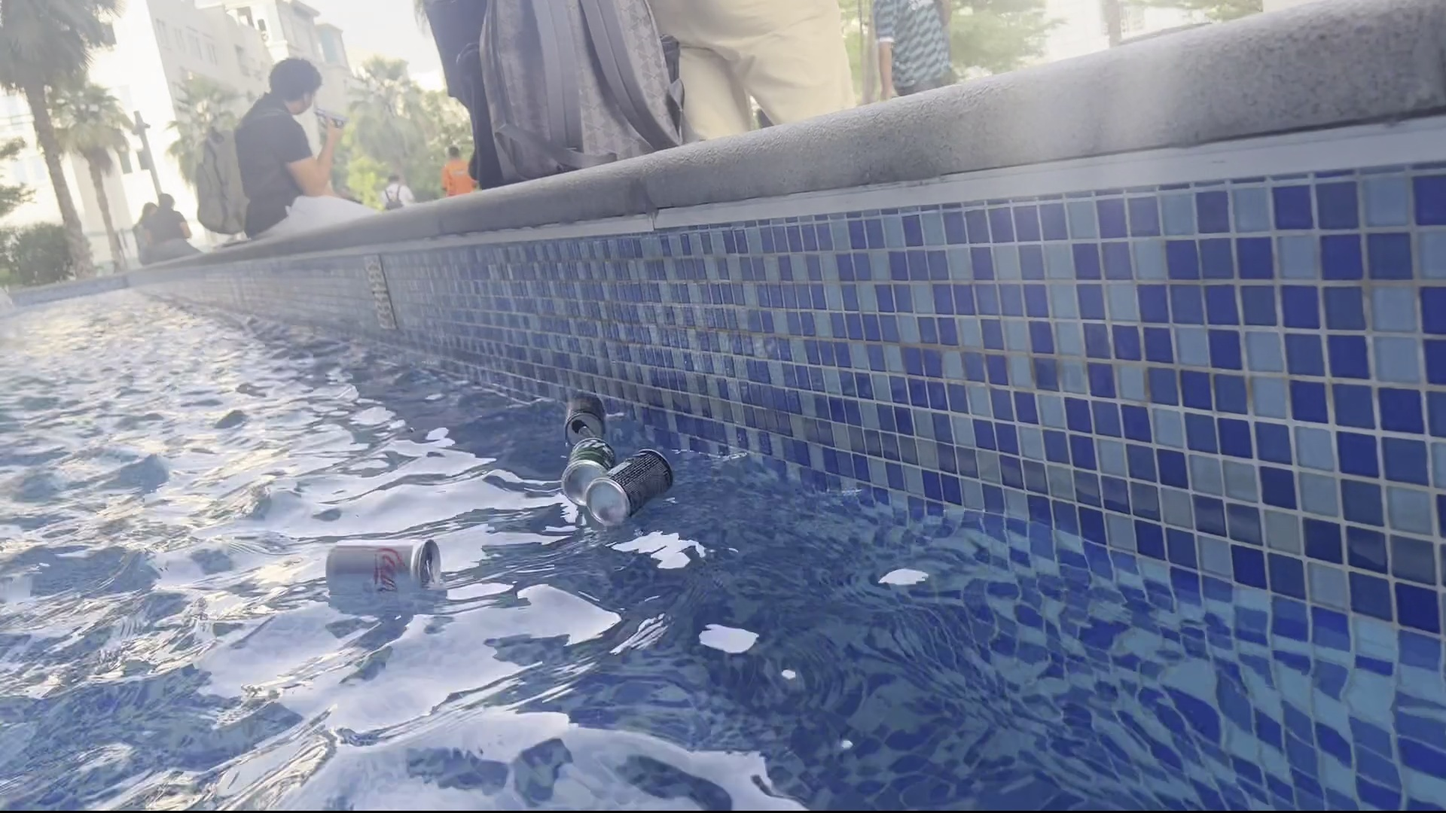debris: (316, 525, 449, 601), (579, 440, 682, 525), (553, 433, 615, 502), (560, 387, 608, 447)
